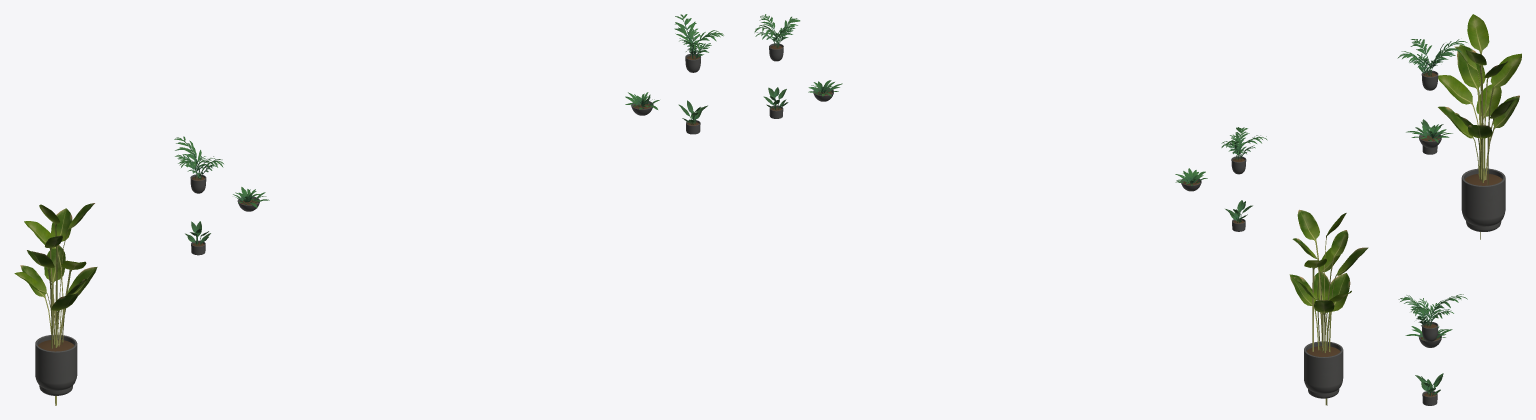
Rendered from CommunityRoomA_Plant.fbx.
3 renders of one model, left to right at view 1: azimuth 30°, elevation 25°; view 2: azimuth 150°, elevation 25°; view 3: azimuth 270°, elevation 25°, orthographic. The views are drawn at different scales.
Visible parts, largest first — view 1: CommunityRoomA_Plant; view 2: CommunityRoomA_Plant; view 3: CommunityRoomA_Plant.
Boxes of the visible parts, x1,y1,x2,y2 form: CommunityRoomA_Plant: (14,14,723,405); CommunityRoomA_Plant: (754,14,1368,405); CommunityRoomA_Plant: (1397,14,1521,405).
Size of the model in its own units: 1043 by 366 by 161.
